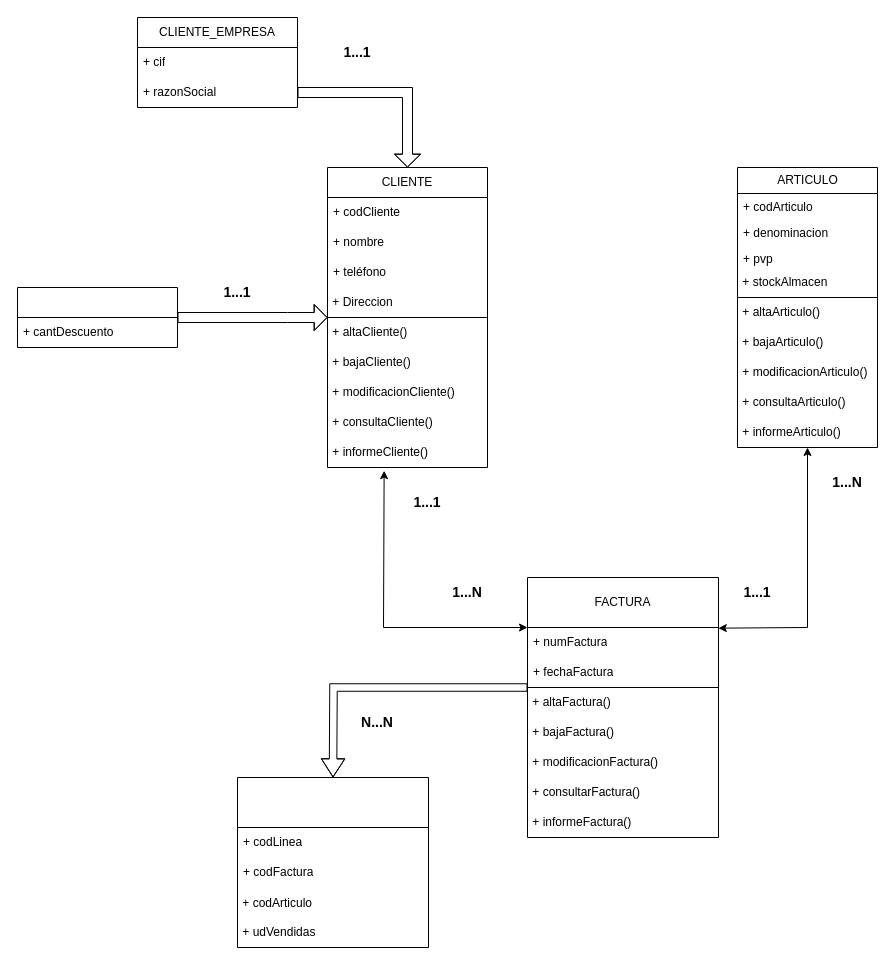
Image size: 896x965. Some labels were removed from this diagram. The box of each missing label's shape, as (x1, y1, x2, y2) in pixels:
CLIENTE_PARTICULAR: (16, 286, 178, 348)
LINEAS DE FACTURA: (236, 776, 428, 948)
